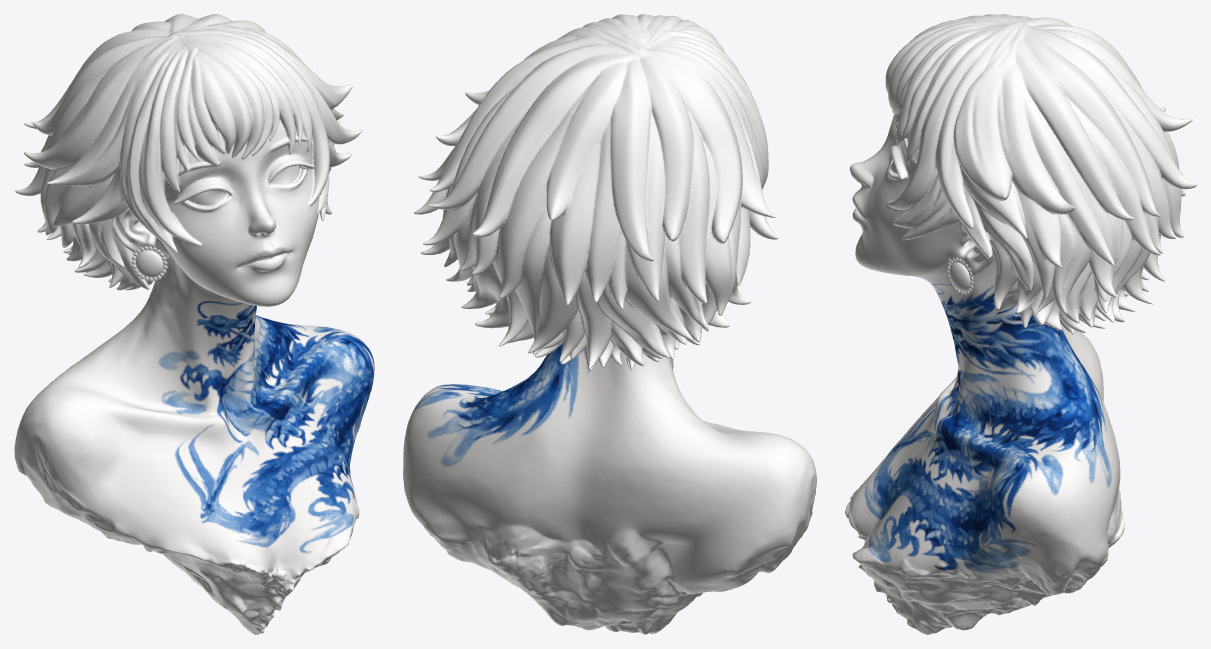
Rendered from porcelain.glb.
3 renders of one model, left to right at view 1: azimuth 30°, elevation 25°; view 2: azimuth 150°, elevation 25°; view 3: azimuth 270°, elevation 25°, orthographic. The views are drawn at different scales.
Visible parts, largest first — view 1: object 97, Hollow Sphere; view 2: object 97; view 3: object 97.
Part boxes in pixels (bbox=[...]): object 97: bbox=[14, 14, 374, 634]; Hollow Sphere: bbox=[136, 250, 162, 277]; object 97: bbox=[403, 14, 816, 634]; object 97: bbox=[845, 14, 1196, 634].
Bounding box in the file's own units: 0.012 × 0.019 × 0.0101.
Materials: 2 (1 with a texture image).
